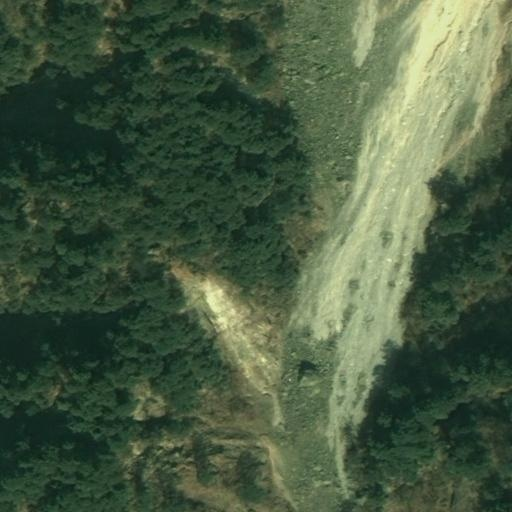landslide: (174, 2, 508, 512)
